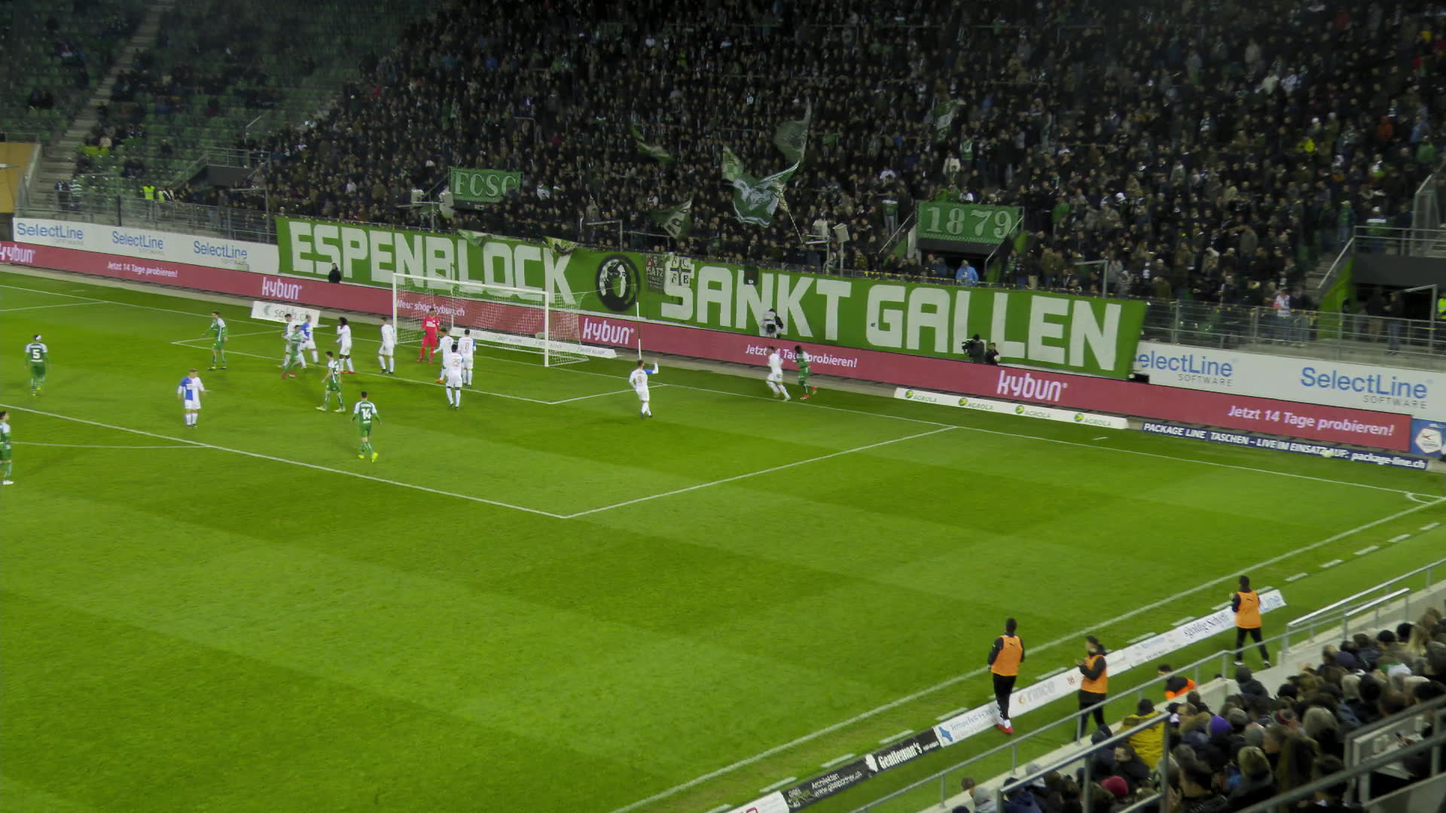player: (314, 350, 349, 413), (623, 358, 657, 421), (348, 388, 377, 461), (761, 343, 797, 400), (197, 309, 227, 370), (20, 333, 48, 397), (172, 367, 200, 429), (438, 344, 463, 411), (273, 322, 303, 375), (290, 312, 313, 369), (800, 342, 822, 400), (373, 314, 394, 374), (331, 314, 351, 374), (275, 311, 295, 369), (416, 306, 436, 363), (432, 325, 450, 384), (454, 327, 472, 383), (0, 412, 10, 485)
